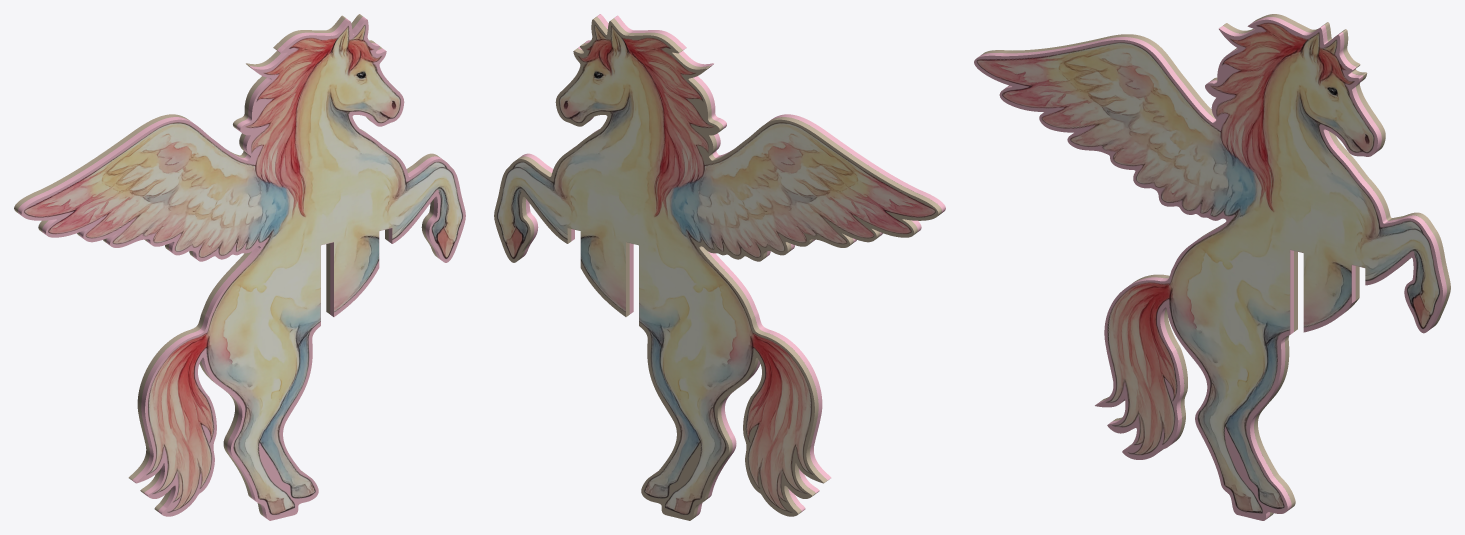
The picture shows the model from 3 angles, left to right: view 1: azimuth 30°, elevation 25°; view 2: azimuth 150°, elevation 25°; view 3: azimuth 330°, elevation 25°; orthographic projection. The views are drawn at different scales.
Parts seen in each view (by area): view 1: p012; view 2: p012; view 3: p012.
Part boxes in pixels (bbox=[...]): p012: bbox=[14, 14, 465, 520]; p012: bbox=[494, 14, 945, 520]; p012: bbox=[974, 14, 1450, 520].
Bounding box in the file's own units: 621 × 642 × 18.
Materials: 4 (2 with a texture image).
